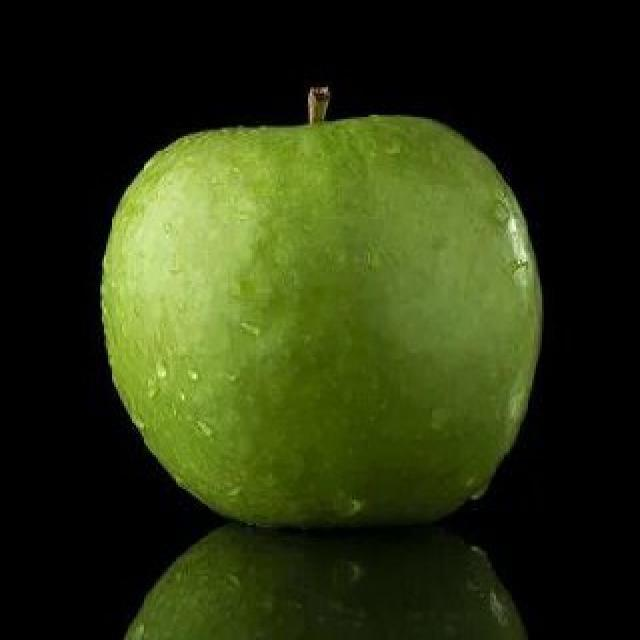Fresh Apple: (97, 110, 538, 543)
